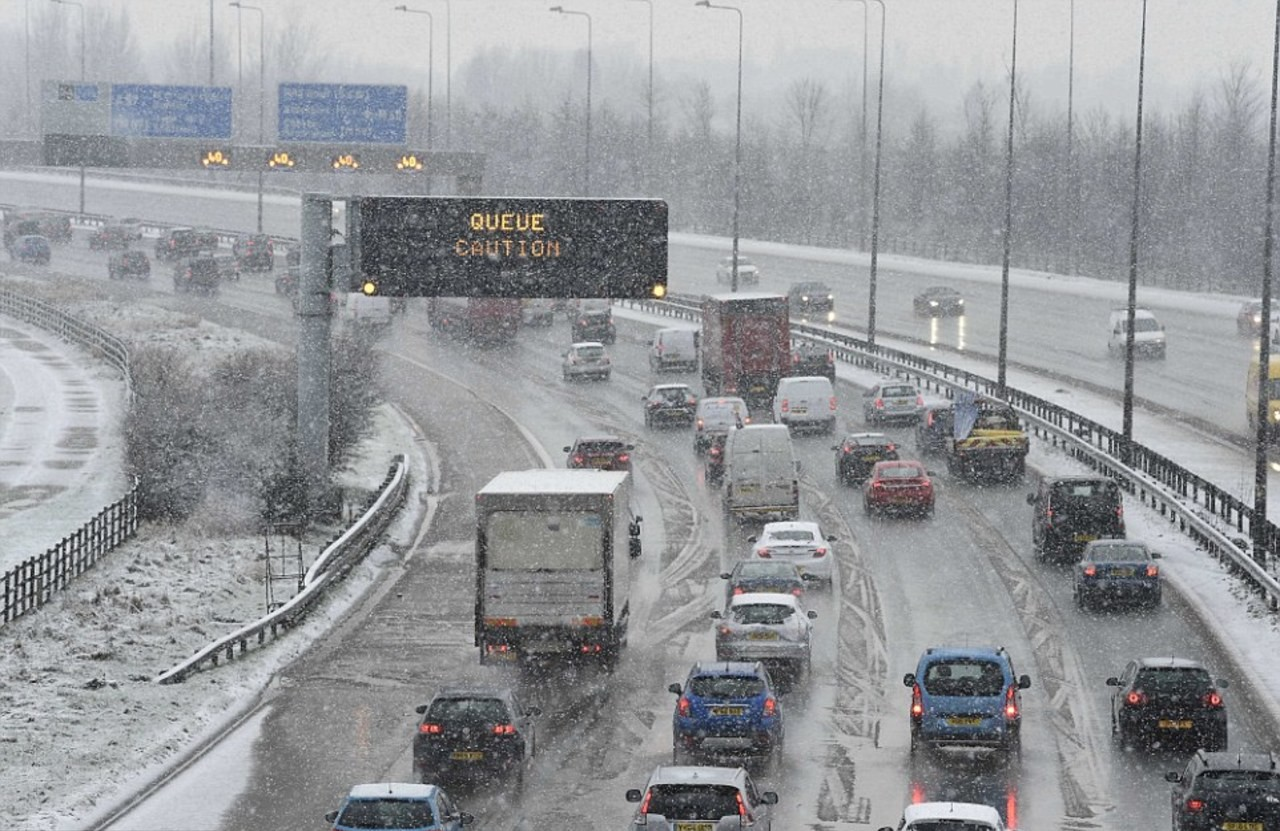car: (909, 645, 1024, 758), (412, 688, 536, 788), (1112, 659, 1227, 758), (666, 665, 782, 758), (1030, 471, 1125, 563), (713, 602, 813, 683), (636, 765, 754, 830), (323, 778, 469, 828), (727, 425, 799, 524), (1073, 538, 1160, 614), (861, 460, 937, 521), (751, 521, 832, 577), (562, 432, 639, 478), (891, 801, 1012, 830), (777, 381, 837, 439), (1104, 310, 1166, 356), (693, 400, 747, 447), (833, 436, 894, 477), (337, 296, 393, 338), (913, 282, 967, 323), (559, 342, 612, 383), (640, 383, 694, 423), (868, 382, 919, 419), (650, 329, 698, 367), (916, 405, 951, 449), (171, 257, 215, 291), (788, 280, 833, 313), (151, 228, 197, 258), (230, 246, 278, 274), (715, 254, 758, 282), (209, 252, 243, 285), (109, 256, 146, 286), (8, 236, 45, 266), (92, 226, 130, 252), (703, 433, 725, 477), (231, 233, 276, 250)
truck: (474, 465, 637, 673), (699, 297, 791, 394), (428, 288, 516, 348)
